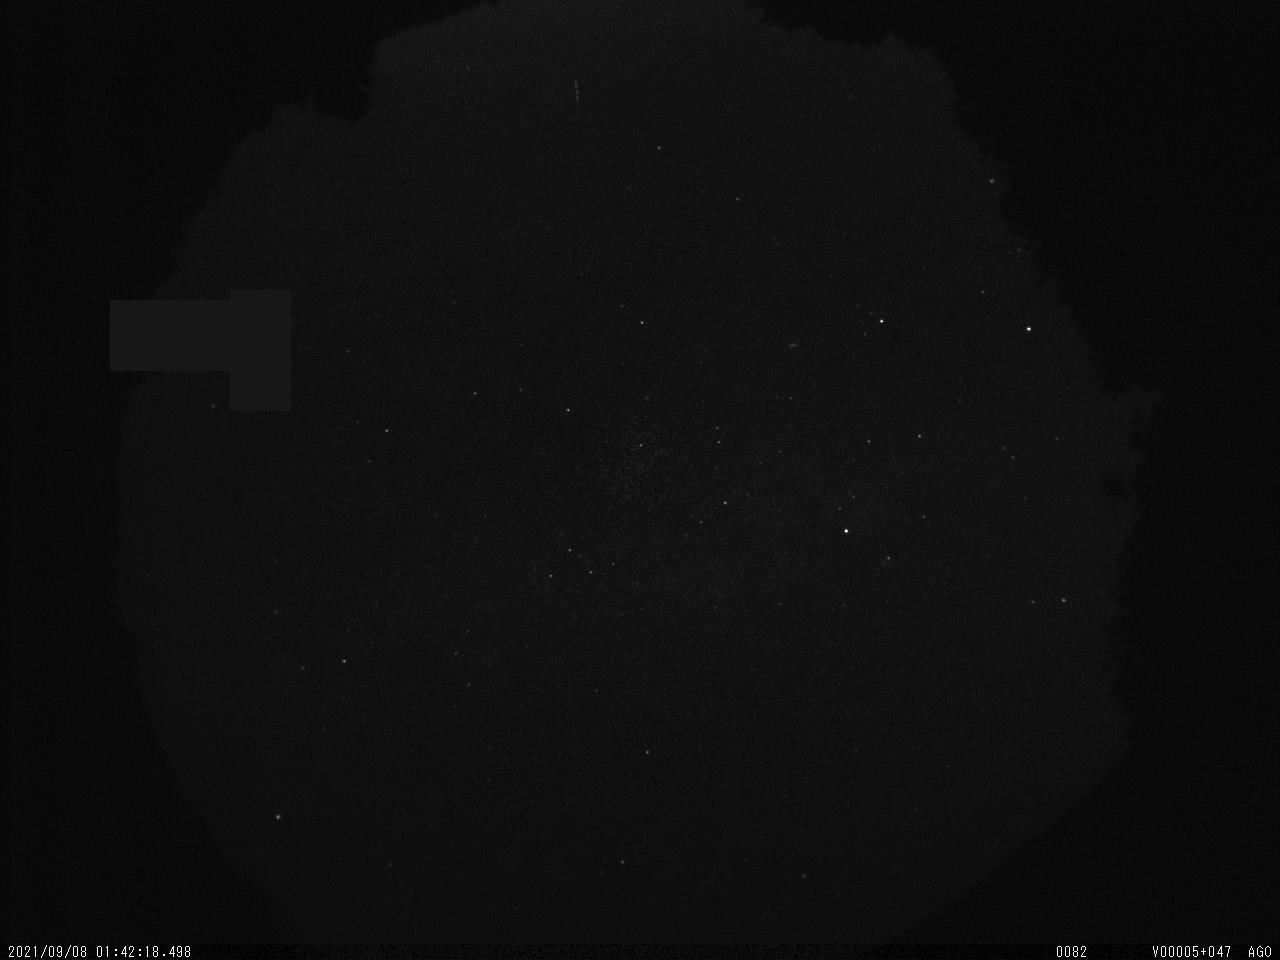meteor: (566, 68, 593, 110)
